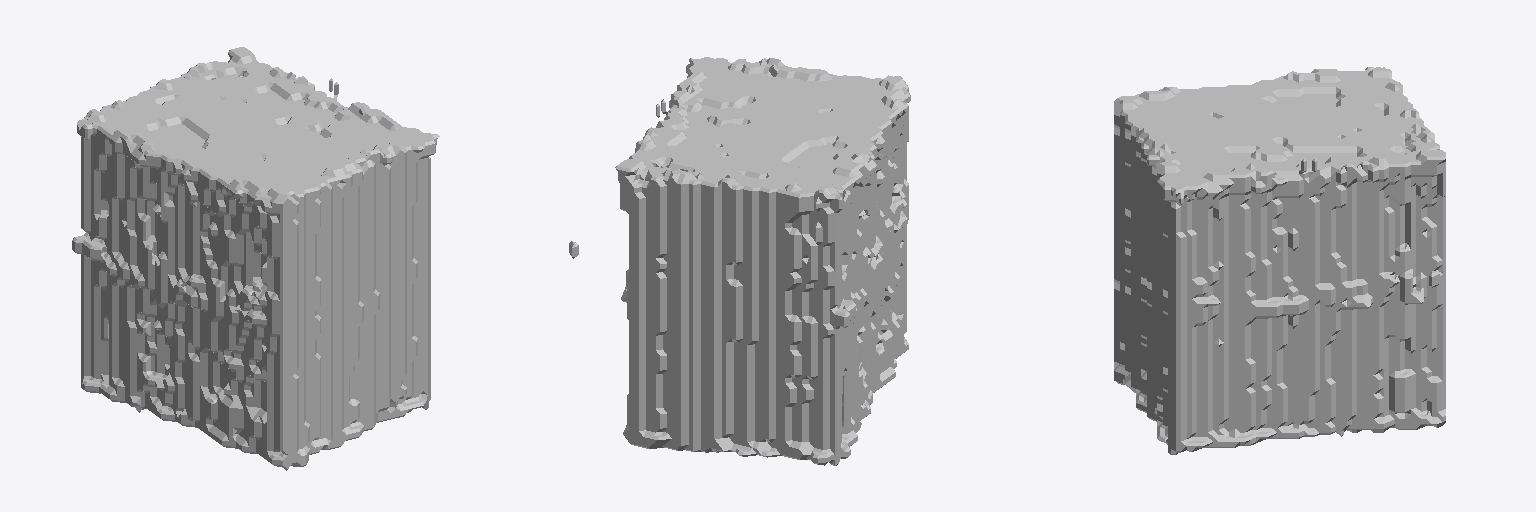
File: gen2_colored.obj
3 renders of one model, left to right at view 1: azimuth 30°, elevation 25°; view 2: azimuth 150°, elevation 25°; view 3: azimuth 270°, elevation 25°, orthographic.
Parts seen in each view (by area): view 1: gen2.obj; view 2: gen2.obj; view 3: gen2.obj.
Boxes of the visible parts, box(x1,y1,x2,y2) form: gen2.obj: box(72, 47, 439, 470); gen2.obj: box(569, 57, 910, 465); gen2.obj: box(1114, 67, 1445, 454).
Bounding box in the file's own units: 57 × 59 × 62.